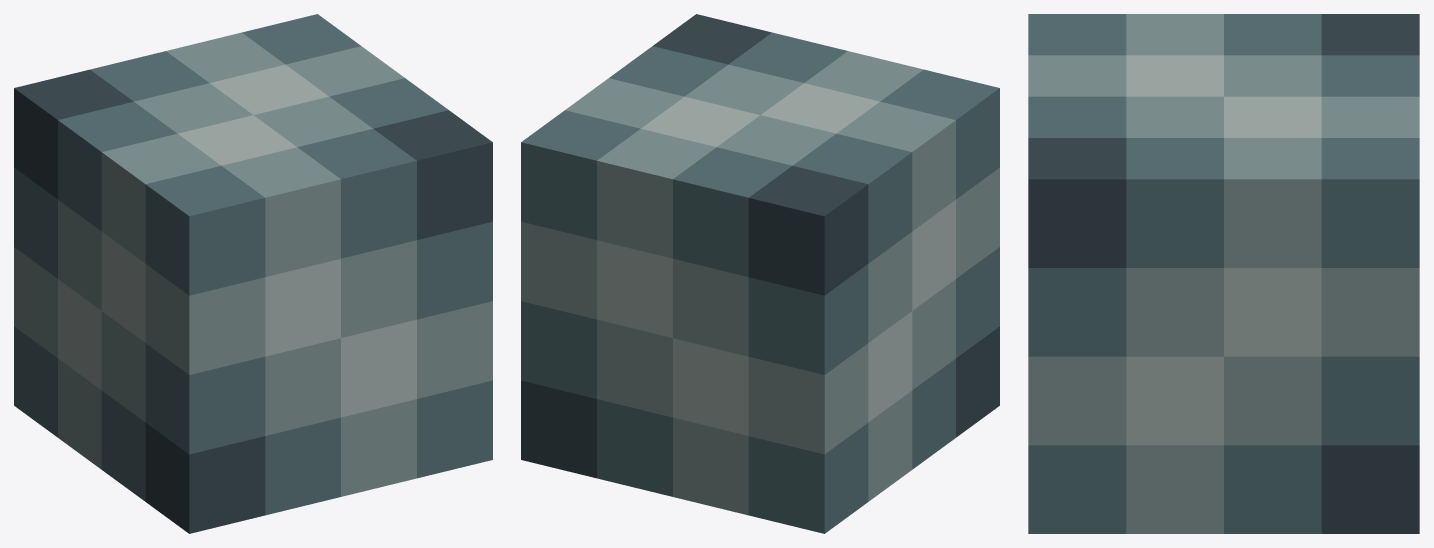
The model's file is OreIron.obj.
3 renders of one model, left to right at view 1: azimuth 30°, elevation 25°; view 2: azimuth 150°, elevation 25°; view 3: azimuth 270°, elevation 25°, orthographic. The views are drawn at different scales.
Size of the model in its own units: 0.4 by 0.4 by 0.4.
1 material, 1 textured.
